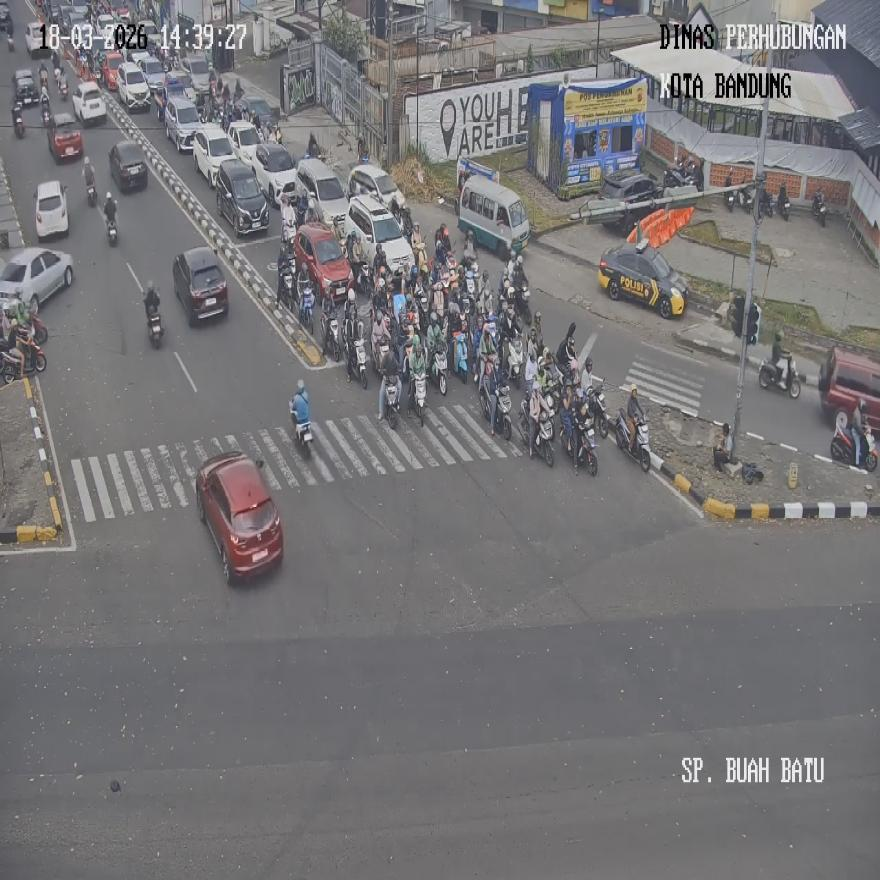Motor: (194, 451, 282, 583), (346, 193, 414, 287), (457, 174, 530, 259), (818, 345, 880, 435), (0, 246, 74, 316), (174, 246, 228, 325), (215, 160, 270, 235), (599, 169, 662, 232)
Truk: (830, 411, 877, 470), (0, 332, 45, 381), (615, 411, 651, 470), (4, 301, 48, 347), (758, 351, 801, 396), (481, 380, 511, 441), (566, 416, 597, 474), (525, 407, 554, 466), (587, 381, 609, 440), (290, 400, 312, 457), (506, 275, 530, 323), (406, 370, 426, 426), (347, 338, 367, 388), (322, 313, 342, 363), (382, 374, 400, 429), (429, 347, 448, 395), (504, 335, 522, 385), (299, 278, 314, 334), (453, 332, 469, 382), (278, 266, 296, 310), (355, 260, 372, 300), (146, 310, 163, 348), (724, 171, 737, 213), (812, 190, 826, 228), (741, 182, 758, 213), (12, 103, 24, 138), (777, 187, 790, 219), (758, 190, 774, 216), (105, 213, 117, 246), (85, 173, 97, 206), (40, 97, 51, 130), (58, 72, 69, 100), (7, 28, 14, 51)
